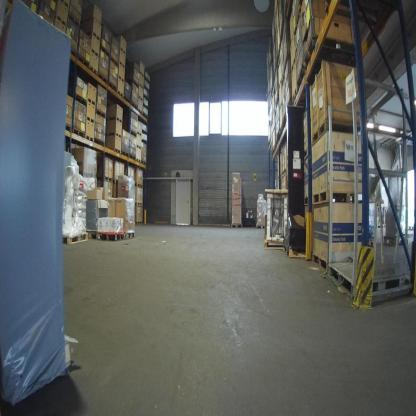pallet: (304, 34, 357, 76), (261, 186, 291, 259), (307, 113, 367, 142), (310, 188, 373, 207), (309, 250, 331, 272), (62, 231, 88, 245), (297, 67, 310, 94), (100, 229, 125, 242), (84, 30, 102, 42), (67, 12, 81, 27), (291, 88, 302, 106), (77, 53, 90, 68), (54, 13, 67, 27), (73, 94, 87, 107), (74, 127, 86, 141), (95, 107, 107, 121), (97, 72, 108, 85), (88, 230, 100, 241), (93, 137, 106, 147), (100, 45, 110, 58), (108, 80, 118, 93), (290, 60, 298, 76), (105, 147, 121, 155), (125, 230, 135, 242), (106, 116, 123, 123), (231, 223, 244, 232), (282, 114, 289, 130), (105, 131, 122, 137), (88, 65, 98, 75), (65, 123, 74, 134), (86, 97, 97, 106), (110, 57, 119, 68), (303, 195, 310, 208), (98, 176, 113, 182), (90, 47, 99, 57), (280, 167, 288, 177), (279, 124, 285, 136), (116, 90, 124, 99), (60, 0, 69, 8), (85, 135, 95, 142), (85, 117, 95, 124), (124, 95, 131, 105), (71, 46, 77, 57), (287, 101, 292, 113), (134, 183, 144, 189), (133, 221, 143, 227), (305, 144, 309, 158), (257, 224, 265, 231), (122, 151, 130, 158), (117, 75, 125, 82), (119, 47, 126, 55), (131, 101, 138, 109), (130, 129, 137, 137), (129, 153, 136, 160), (141, 138, 148, 145), (142, 112, 148, 120), (134, 201, 143, 206), (136, 157, 142, 164), (113, 177, 119, 184), (119, 61, 125, 68), (137, 108, 143, 115), (136, 144, 142, 151), (139, 71, 145, 77), (139, 82, 144, 89), (279, 101, 282, 112), (141, 160, 146, 166), (138, 95, 143, 101), (137, 130, 142, 136), (272, 108, 275, 116)
